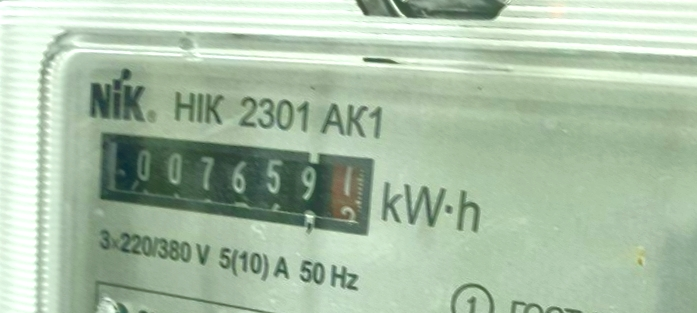0: (162, 149, 187, 191), (131, 147, 156, 187)
1: (335, 163, 359, 202)
5: (260, 157, 287, 199)
6: (225, 156, 252, 200)
7: (193, 153, 220, 194)
9: (295, 163, 321, 206)
screen: (82, 118, 384, 247)
